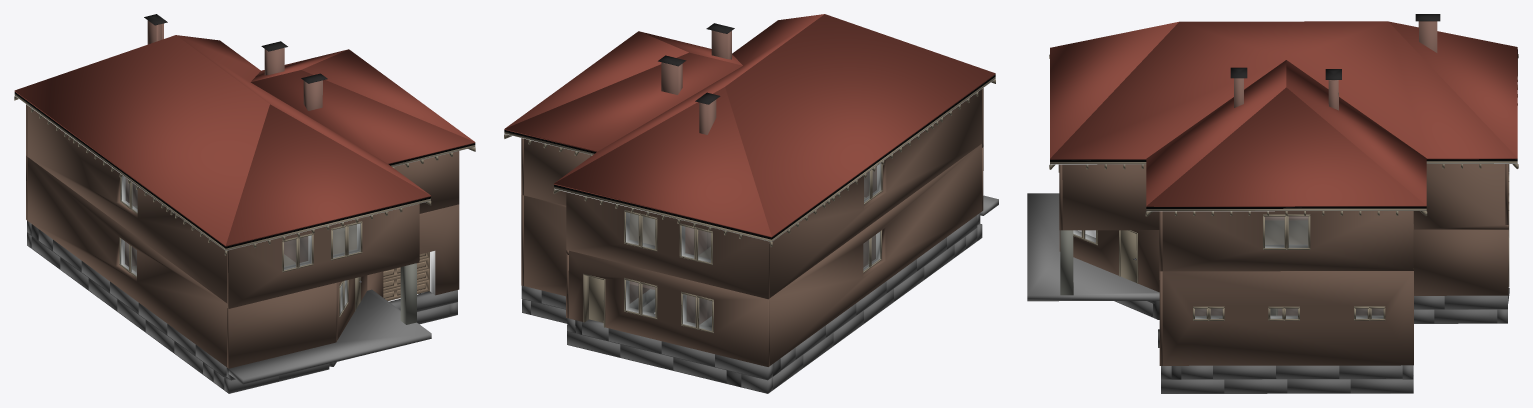
3 renders of one model, left to right at view 1: azimuth 30°, elevation 25°; view 2: azimuth 150°, elevation 25°; view 3: azimuth 270°, elevation 25°, orthographic. The views are drawn at different scales.
Parts seen in each view (by area): view 1: node_e0872dbf_6562_4f1f_95e9_c7c47ade7d4f_mesh0; view 2: node_e0872dbf_6562_4f1f_95e9_c7c47ade7d4f_mesh0; view 3: node_e0872dbf_6562_4f1f_95e9_c7c47ade7d4f_mesh0.
Part boxes in pixels (x1,y1,x2,y2): node_e0872dbf_6562_4f1f_95e9_c7c47ade7d4f_mesh0: [14, 14, 475, 393]; node_e0872dbf_6562_4f1f_95e9_c7c47ade7d4f_mesh0: [504, 14, 998, 393]; node_e0872dbf_6562_4f1f_95e9_c7c47ade7d4f_mesh0: [1027, 14, 1518, 393].
Size of the model in its own units: 28.07 by 36.62 by 22.96.
